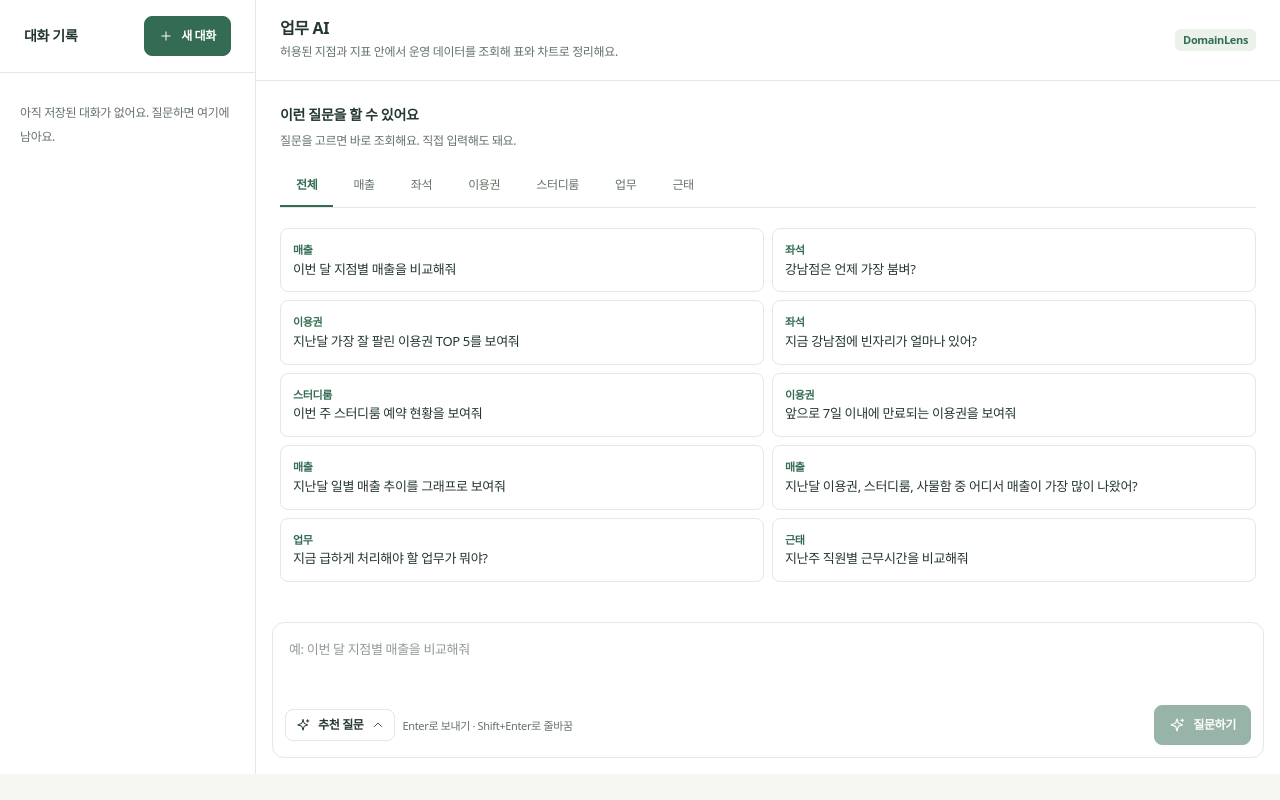
Test: explains a refused question without showing any result
Type "홍대점 매출" into the text box named "AI에게 질문" at [768, 667], box [285,635,1251,699]
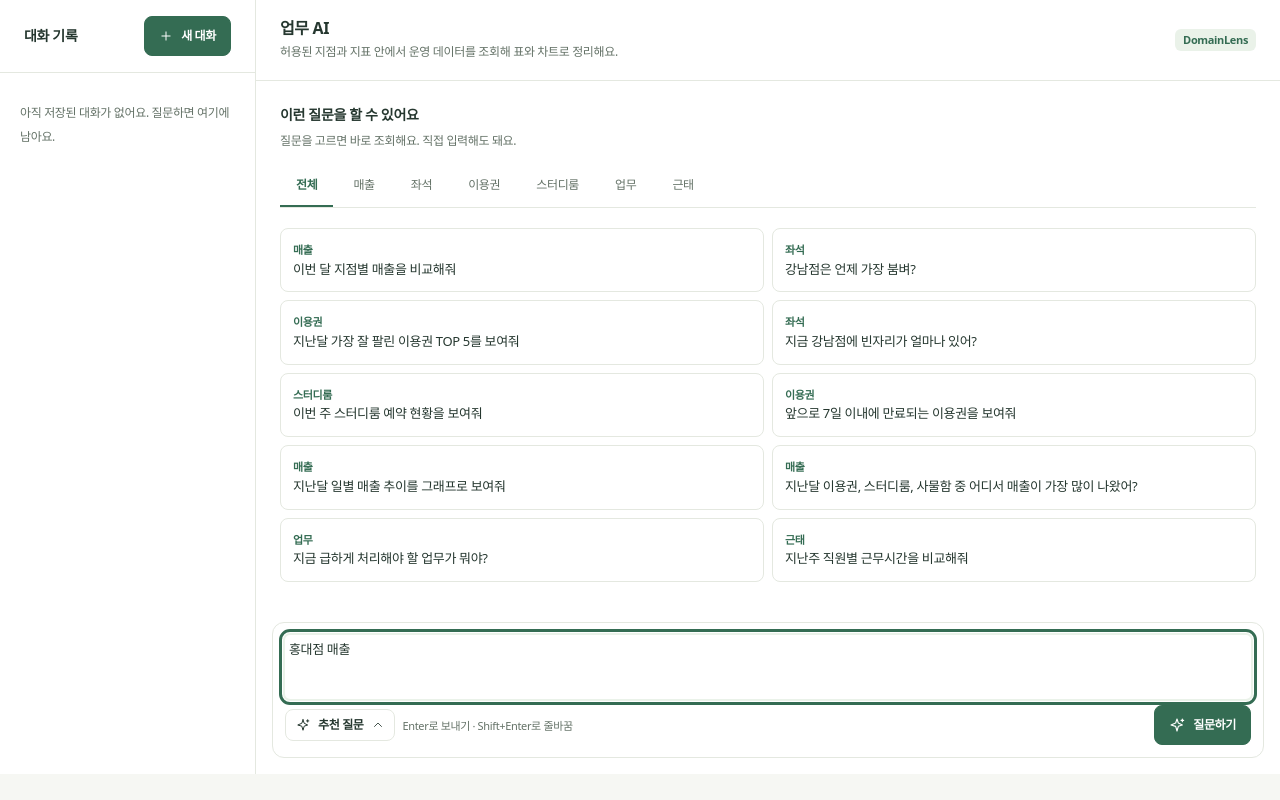
Check: the button "질문하기" is enabled
Click the button "질문하기" at [1203, 725], box [1154,705,1251,745]
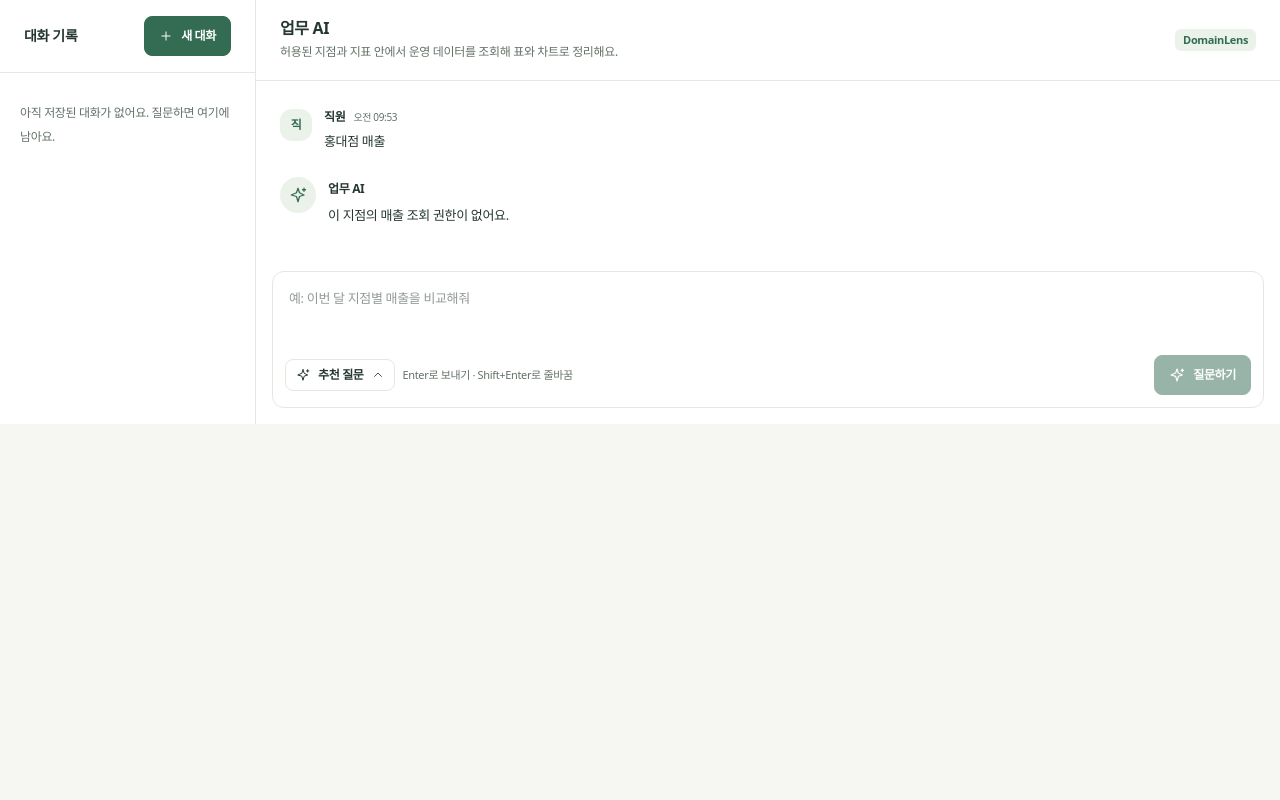
Check: the text "이 지점의 매출 조회 권한이 없어요." is shown, box [328,206,509,224]
